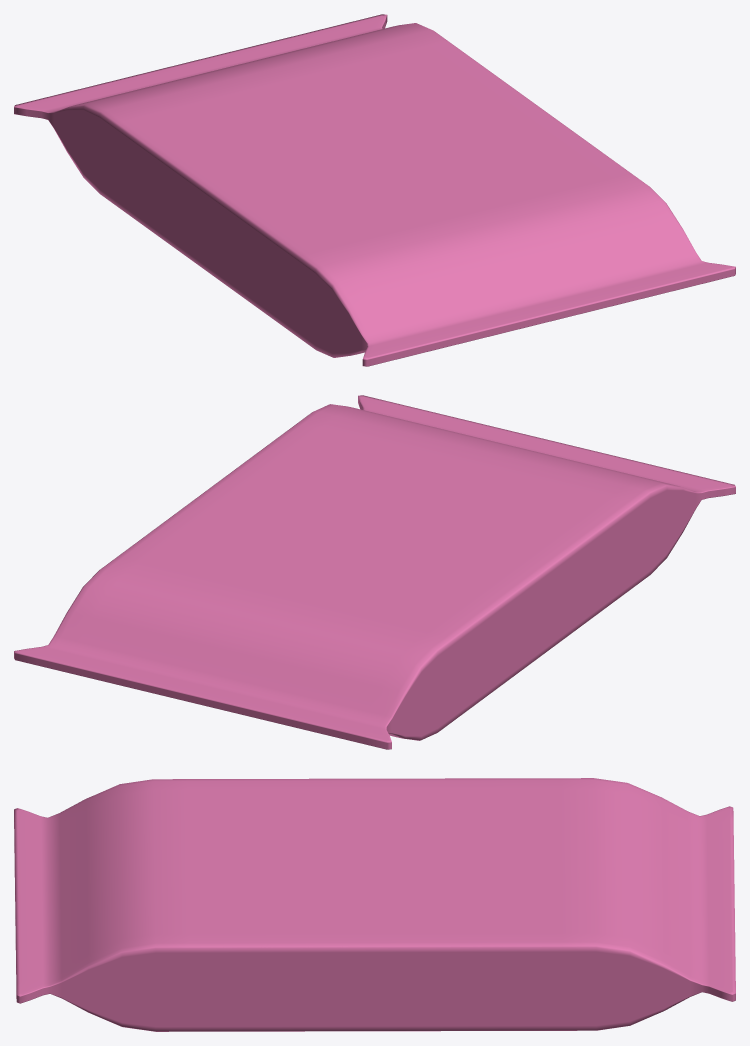
The model's file is seed-pack-tulip.glb.
The picture shows the model from 3 angles, top to bottom: view 1: azimuth 30°, elevation 25°; view 2: azimuth 150°, elevation 25°; view 3: azimuth 270°, elevation 25°; orthographic projection. The views are drawn at different scales.
Parts seen in each view (by area): view 1: Box001.001; view 2: Box001.001; view 3: Box001.001.
Part boxes in pixels (x1=…): Box001.001: x1=14, y1=14, x2=735, y2=366; Box001.001: x1=14, y1=395, x2=735, y2=749; Box001.001: x1=14, y1=778, x2=735, y2=1031.
Bounding box in the file's own units: 0.1425 × 0.0302 × 0.2286.
